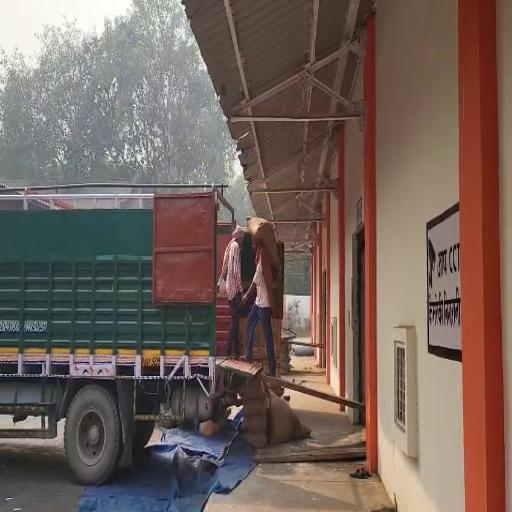bag: (247, 211, 282, 274)
